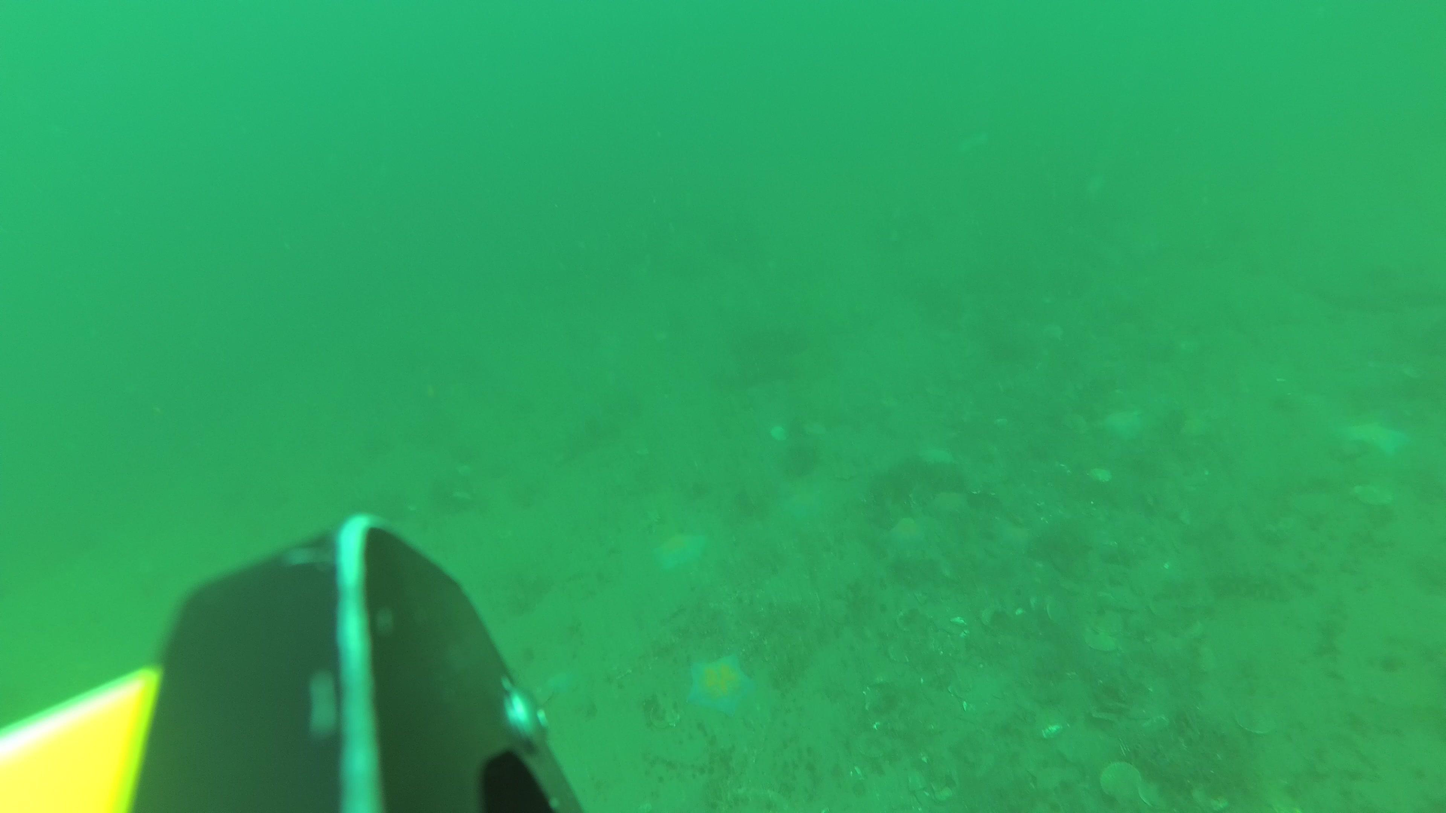echinus: (1205, 568, 1296, 607)
holothurian: (685, 650, 752, 722), (1345, 419, 1411, 460), (654, 530, 712, 573), (1100, 398, 1150, 438), (885, 515, 931, 550)
scallop: (1098, 759, 1145, 807), (1236, 705, 1279, 736), (1188, 782, 1231, 811), (851, 729, 890, 759), (1350, 483, 1397, 507), (1082, 630, 1121, 654)
